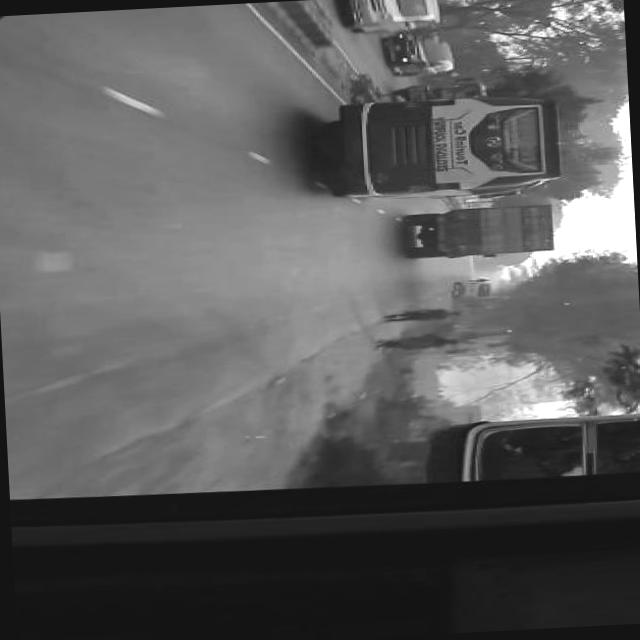bus: (329, 93, 562, 205)
truck: (404, 205, 557, 262), (351, 0, 439, 32), (388, 32, 452, 75), (403, 79, 486, 102), (461, 282, 490, 298)
